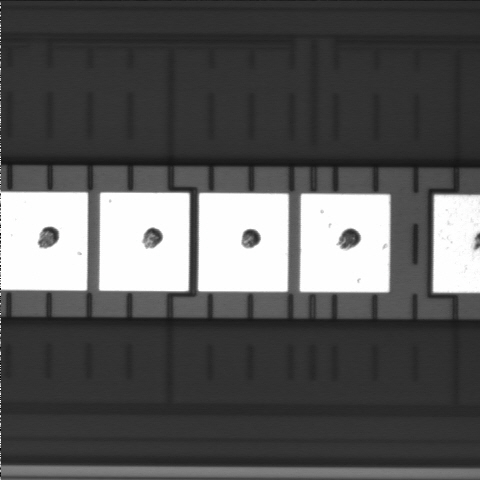pad: (198, 193, 289, 292), (99, 193, 189, 291), (300, 194, 390, 292)
